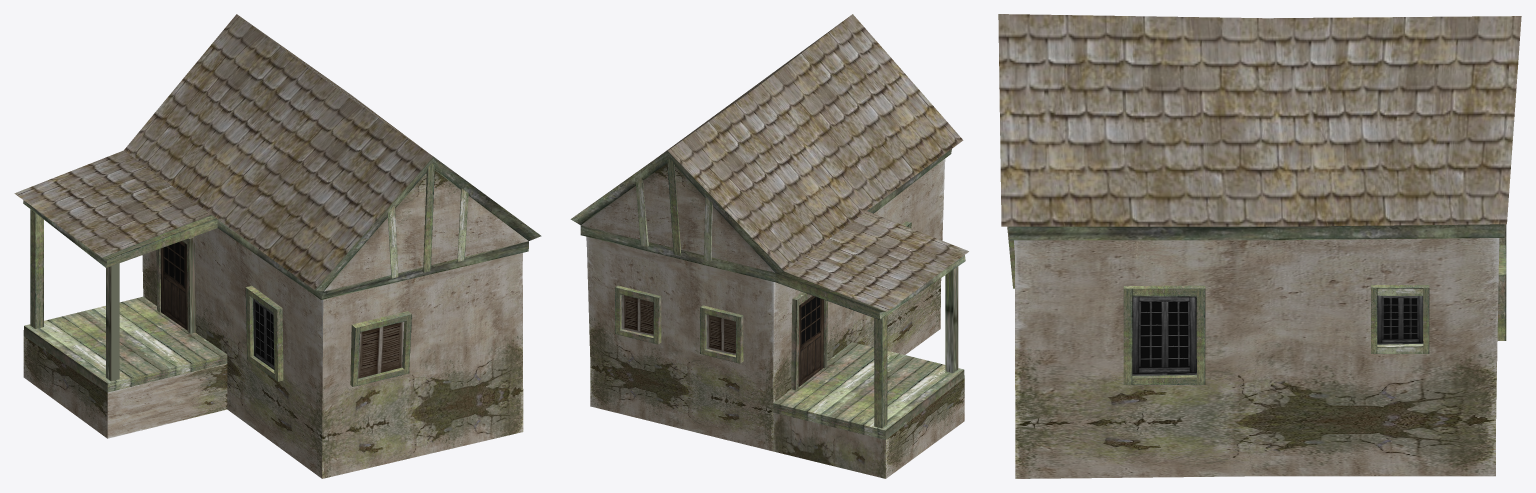
File: english_n.fbx
3 renders of one model, left to right at view 1: azimuth 30°, elevation 25°; view 2: azimuth 150°, elevation 25°; view 3: azimuth 270°, elevation 25°, orthographic. The views are drawn at different scales.
Parts seen in each view (by area): view 1: building_shell1, building_shell2, window_a_01, window_a_03, door_right, post1, post8, door_frame, beam_vert_tall011, beam_vert_tall013, beam_vert_tall019; view 2: building_shell1, building_shell2, window_b_01, window_b_02, door_right, post8, post1, door_frame, beam_vert_tall020, beam_vert_tall021, beam_vert_tall018; view 3: building_shell1, window_a_02, window_b_03, window_b_01.
Boxes of the visible parts, left/top/right/bottom form: building_shell1: left=14, top=14, right=541, bottom=478; building_shell2: left=24, top=296, right=226, bottom=383; window_a_01: left=350, top=311, right=411, bottom=386; window_a_03: left=245, top=285, right=283, bottom=381; door_right: left=160, top=241, right=187, bottom=330; post1: left=106, top=263, right=119, bottom=381; post8: left=30, top=209, right=43, bottom=328; door_frame: left=156, top=237, right=195, bottom=333; beam_vert_tall011: left=422, top=163, right=434, bottom=272; beam_vert_tall013: left=457, top=188, right=468, bottom=261; beam_vert_tall019: left=387, top=205, right=398, bottom=278; building_shell1: left=570, top=14, right=968, bottom=478; building_shell2: left=773, top=342, right=963, bottom=430; window_b_01: left=615, top=285, right=661, bottom=344; window_b_02: left=700, top=305, right=743, bottom=363; door_right: left=798, top=296, right=823, bottom=386; post8: left=874, top=315, right=887, bottom=428; post1: left=945, top=266, right=958, bottom=373; door_frame: left=791, top=292, right=827, bottom=390; beam_vert_tall020: left=667, top=158, right=681, bottom=255; beam_vert_tall021: left=635, top=177, right=648, bottom=246; beam_vert_tall018: left=703, top=197, right=712, bottom=261; building_shell1: left=998, top=14, right=1521, bottom=478; window_a_02: left=1123, top=285, right=1205, bottom=384; window_b_03: left=1371, top=285, right=1429, bottom=353; window_b_01: left=1497, top=245, right=1506, bottom=340.
Bounding box in the file's own units: 4287 × 3692 × 4339.
Materials: 1 (1 with a texture image).
